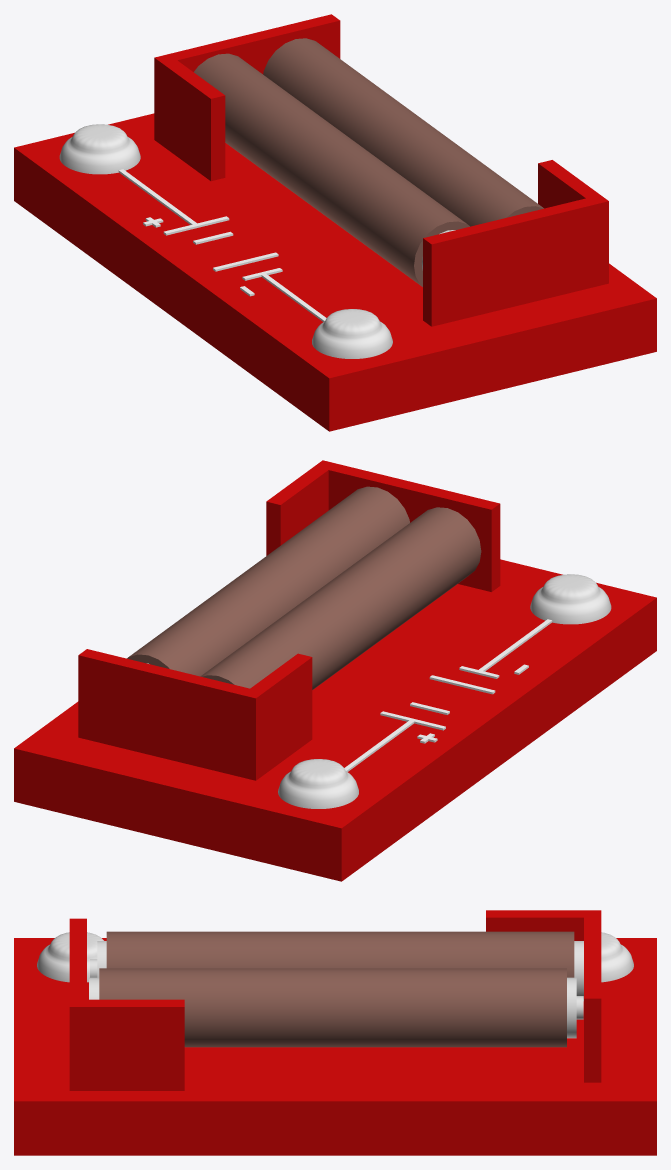
File: BatteryPack.fbx
The picture shows the model from 3 angles, top to bottom: view 1: azimuth 30°, elevation 25°; view 2: azimuth 150°, elevation 25°; view 3: azimuth 270°, elevation 25°; orthographic projection.
Visible parts, largest first — view 1: pCube9, pCylinder9, pCube7, pCylinder10, pCube8, pCylinder4, pCylinder3; view 2: pCube9, pCube8, pCylinder9, pCylinder10, pCube7, pCylinder3, pCylinder4; view 3: pCube9, pCylinder10, pCylinder9, pCube7, pCube8, pCylinder3, pCylinder4.
Part boxes in pixels (x1,y1,x2,y2): pCube9: (14,113,656,431); pCylinder9: (194,53,469,286); pCube7: (423,160,608,326); pCylinder10: (263,38,543,226); pCube8: (154,14,340,181); pCylinder4: (59,124,140,174); pCylinder3: (312,309,392,358); pCube9: (14,559,656,881); pCube8: (78,649,312,780); pCylinder9: (200,507,481,689); pCylinder10: (127,486,409,676); pCube7: (266,460,500,591); pCylinder3: (530,574,611,624); pCylinder4: (278,759,358,808); pCube9: (14,938,656,1155); pCylinder10: (89,968,583,1047); pCylinder9: (90,931,583,1000); pCube7: (69,918,184,1090); pCube8: (486,910,601,1082); pCylinder3: (37,932,103,982); pCylinder4: (601,932,633,982).
Bounding box in the file's own units: 3 × 1.3 × 5.
